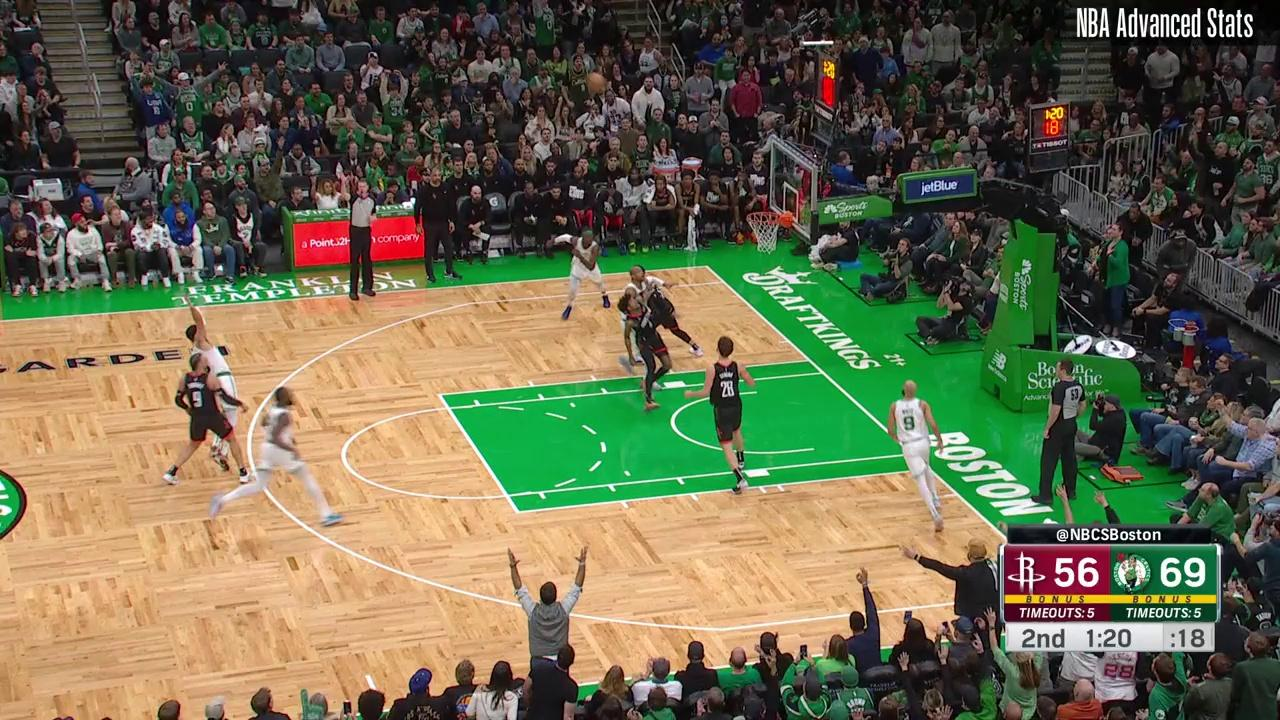3_sx: (718, 277, 729, 285)
b_sx: (701, 262, 712, 272)
free_adx: (512, 506, 526, 517)
free_asx: (433, 390, 447, 402)
free_bsx: (803, 356, 815, 366)
mid_dx: (361, 668, 372, 680)
referee: (1037, 357, 1087, 507), (343, 174, 382, 303)
team: (209, 385, 346, 531), (882, 378, 952, 536), (181, 291, 241, 474), (618, 269, 673, 376), (552, 226, 610, 322)
team1: (165, 353, 254, 489), (687, 336, 757, 496), (617, 290, 676, 413), (633, 262, 703, 357)
timer: (1083, 623, 1134, 654)
